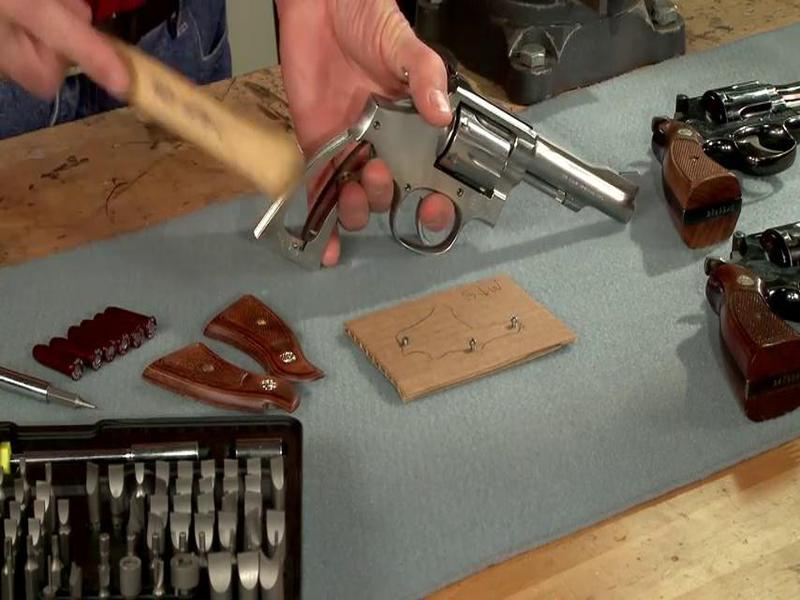Revolver: (247, 70, 639, 309)
